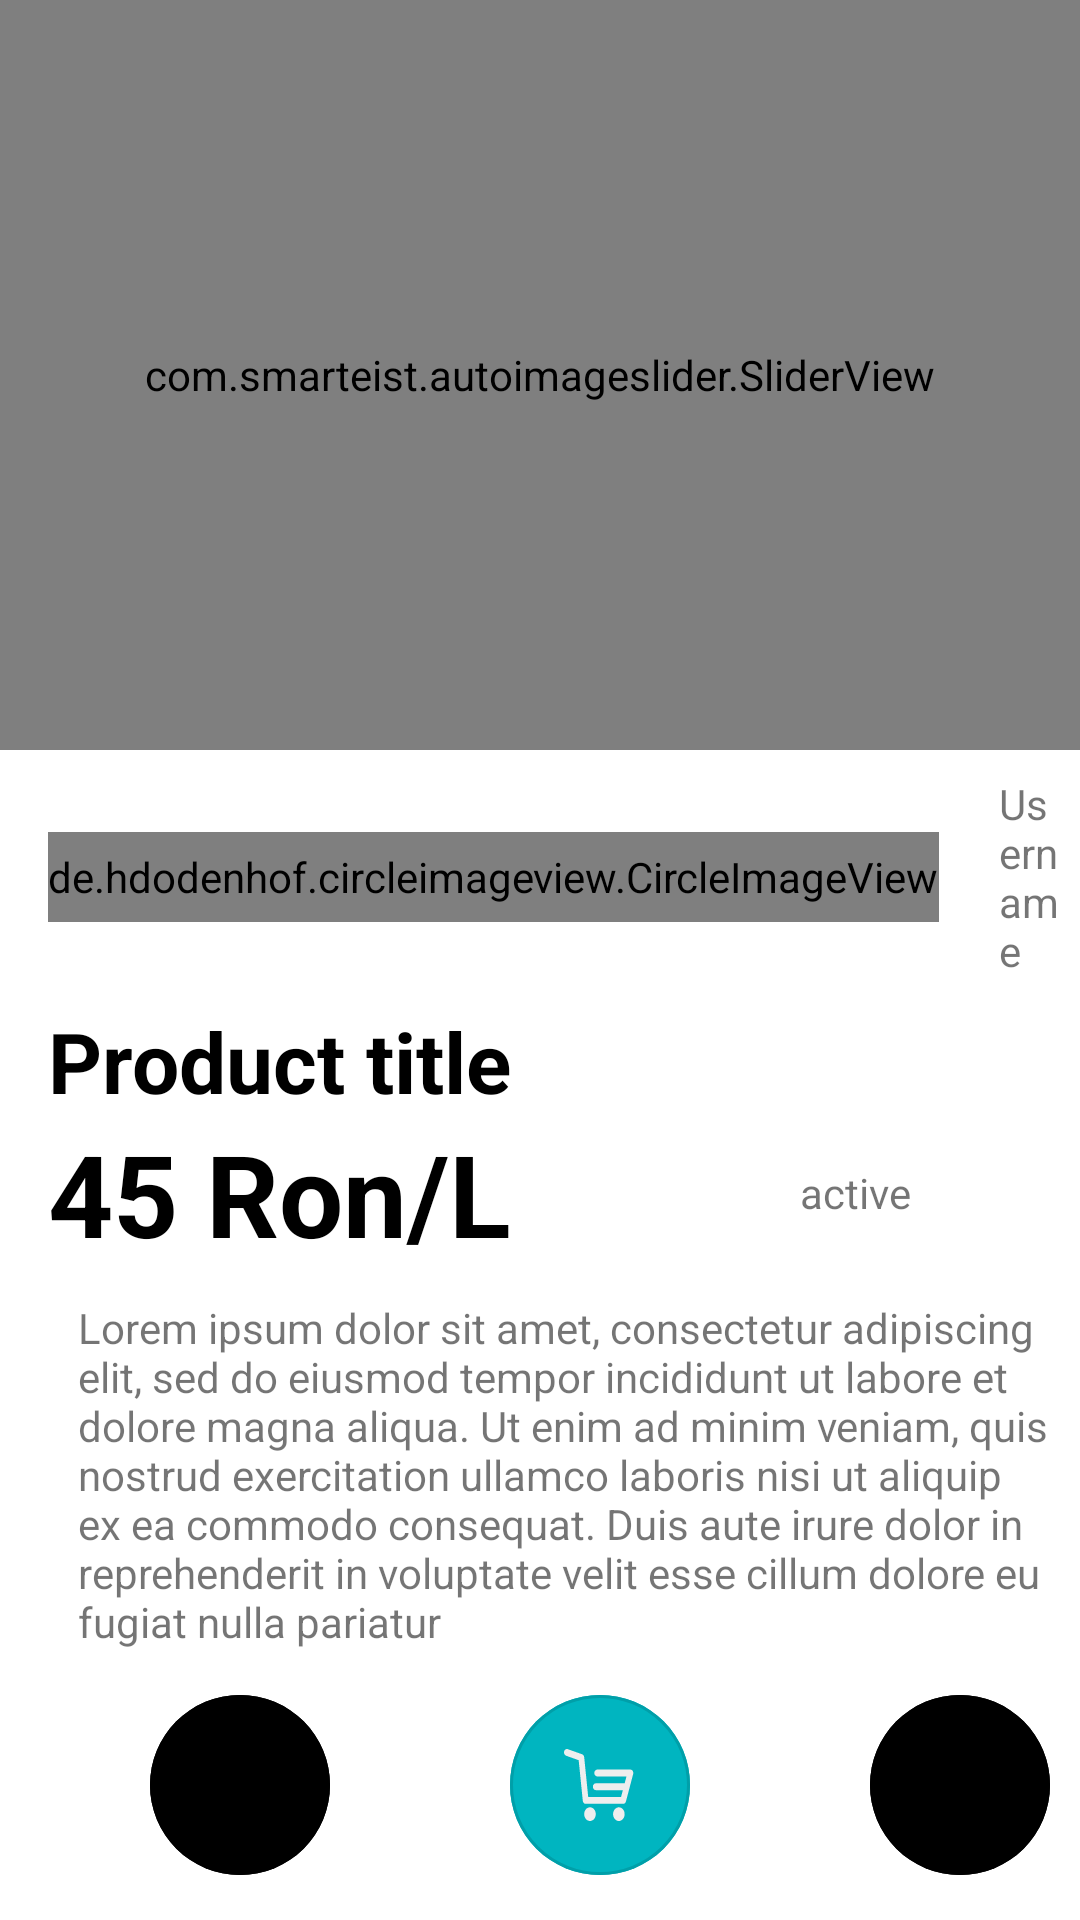

Screen size 1080*1920. Icon name, then its box in pixels as (x1, y1, x2, y2):
market: (510, 1695, 690, 1875)
